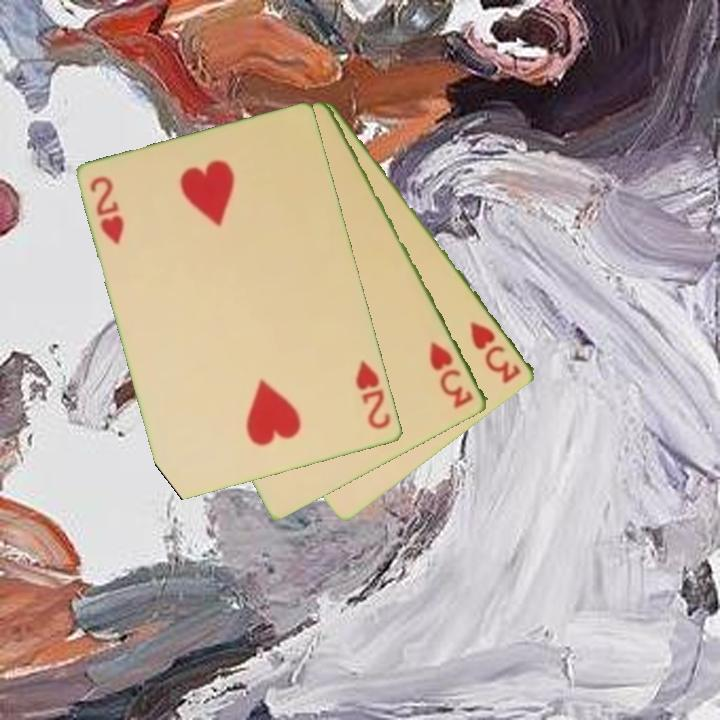2h: (352, 357, 394, 433), (87, 173, 128, 248)
3h: (466, 317, 524, 387), (426, 338, 477, 412)
